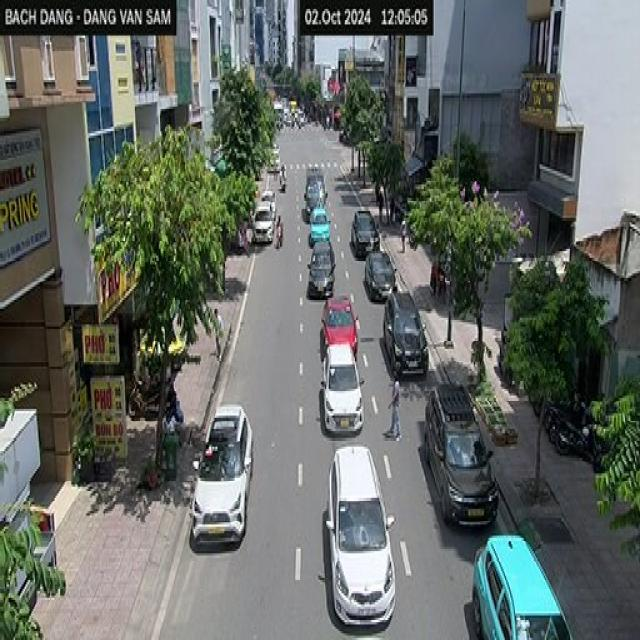car: (324, 444, 395, 629), (424, 380, 498, 527), (472, 533, 572, 638), (190, 402, 252, 547), (382, 289, 428, 378), (320, 340, 364, 433), (319, 294, 359, 362), (364, 249, 396, 300), (350, 207, 380, 256)
person: (388, 373, 402, 440), (212, 306, 224, 358), (400, 218, 406, 251)
